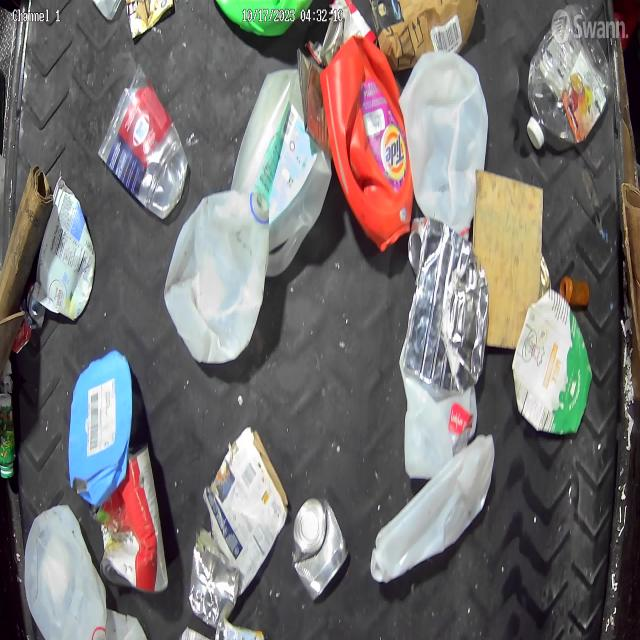milk-jug: (160, 188, 279, 379), (398, 52, 489, 238)
